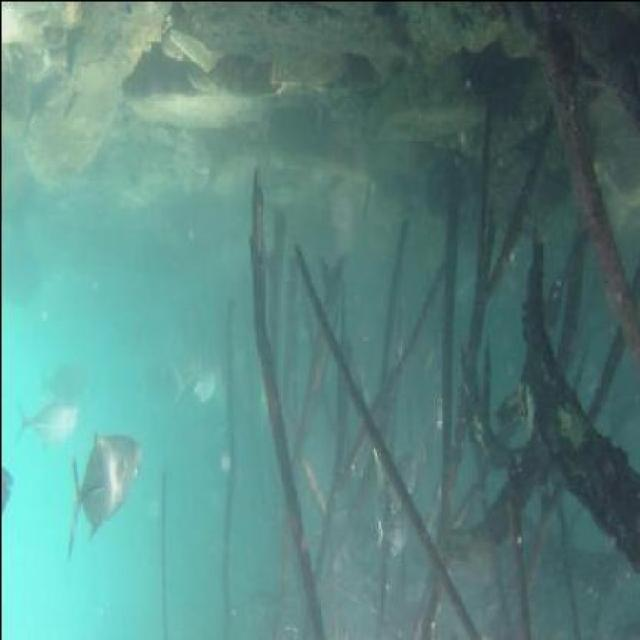Caranx_sexfasciatus_juvenile: (68, 419, 140, 553), (372, 498, 421, 572), (18, 396, 82, 449), (376, 436, 422, 506), (36, 352, 87, 406), (0, 450, 25, 535), (167, 331, 199, 392), (196, 358, 224, 410)
